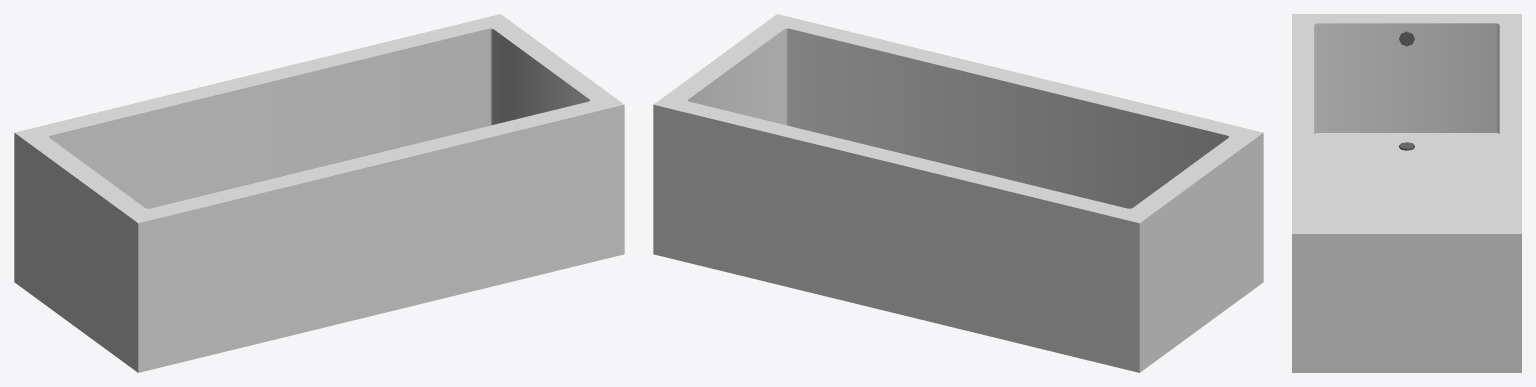
Rendered from Bathroom_01.fbx.
3 renders of one model, left to right at view 1: azimuth 30°, elevation 25°; view 2: azimuth 150°, elevation 25°; view 3: azimuth 270°, elevation 25°, orthographic. The views are drawn at different scales.
Parts seen in each view (by area): view 1: Bathroom_01; view 2: Bathroom_01; view 3: Bathroom_01.
Boxes of the visible parts, left/top/right/bottom form: Bathroom_01: left=14, top=14, right=624, bottom=372; Bathroom_01: left=653, top=14, right=1263, bottom=372; Bathroom_01: left=1292, top=14, right=1521, bottom=372.
Bounding box in the file's own units: 170 × 50 × 75.
